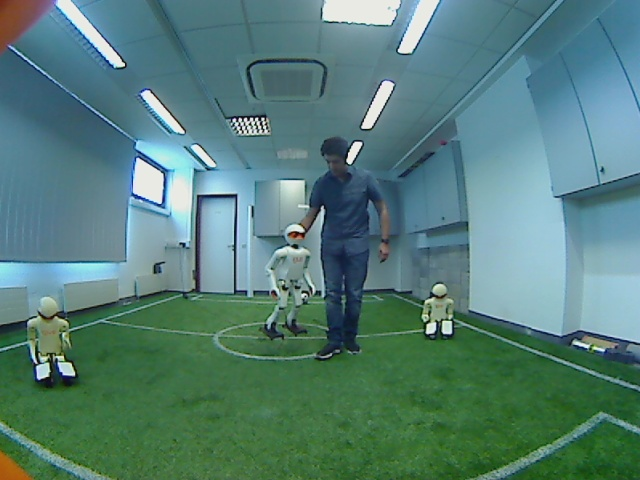robot: (259, 221, 319, 343), (19, 291, 88, 387), (413, 281, 461, 347)
